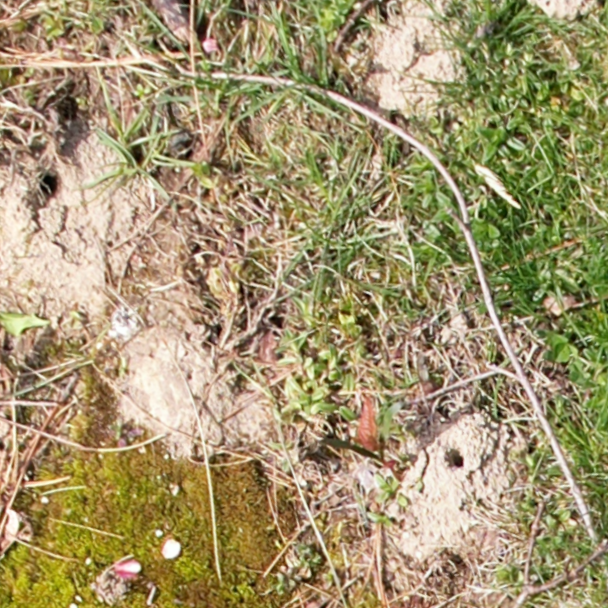nest: (0, 140, 131, 290), (377, 415, 500, 543), (367, 7, 473, 115)
